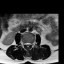CCS_normal: (27, 40, 28, 49)
LFS_normal: (30, 40, 32, 47)
LLS_normal: (28, 41, 30, 47)
RFS_normal: (23, 40, 25, 46)
RLS_normal: (25, 40, 27, 46)
